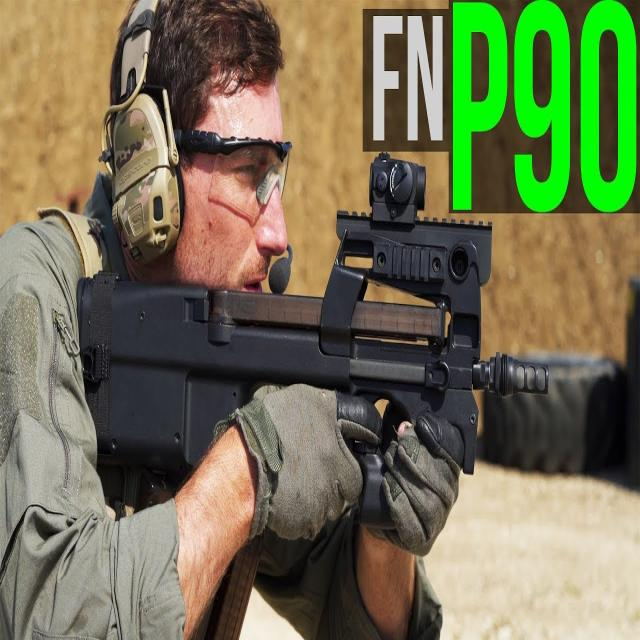SMG: (78, 156, 550, 529)
